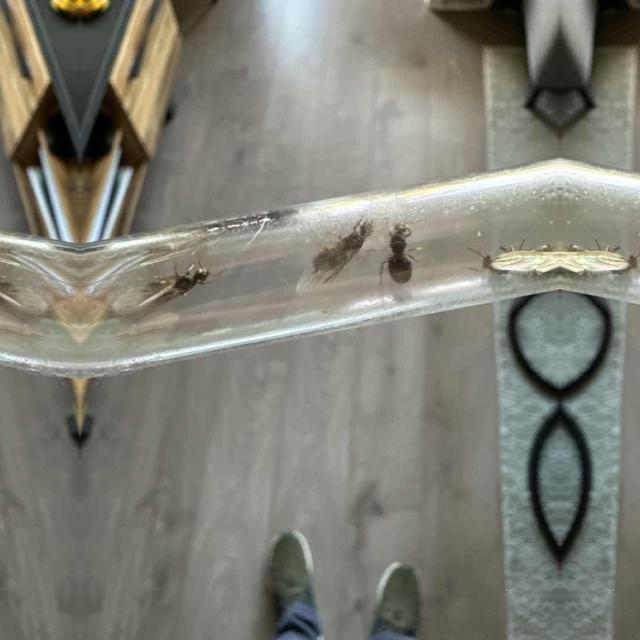Lasius: (299, 211, 376, 289), (126, 258, 217, 312), (382, 219, 414, 285), (0, 258, 32, 310)
